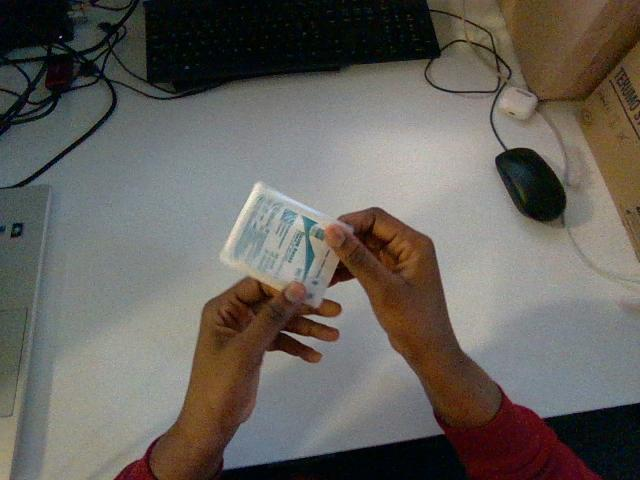gauze: (220, 182, 340, 306)
